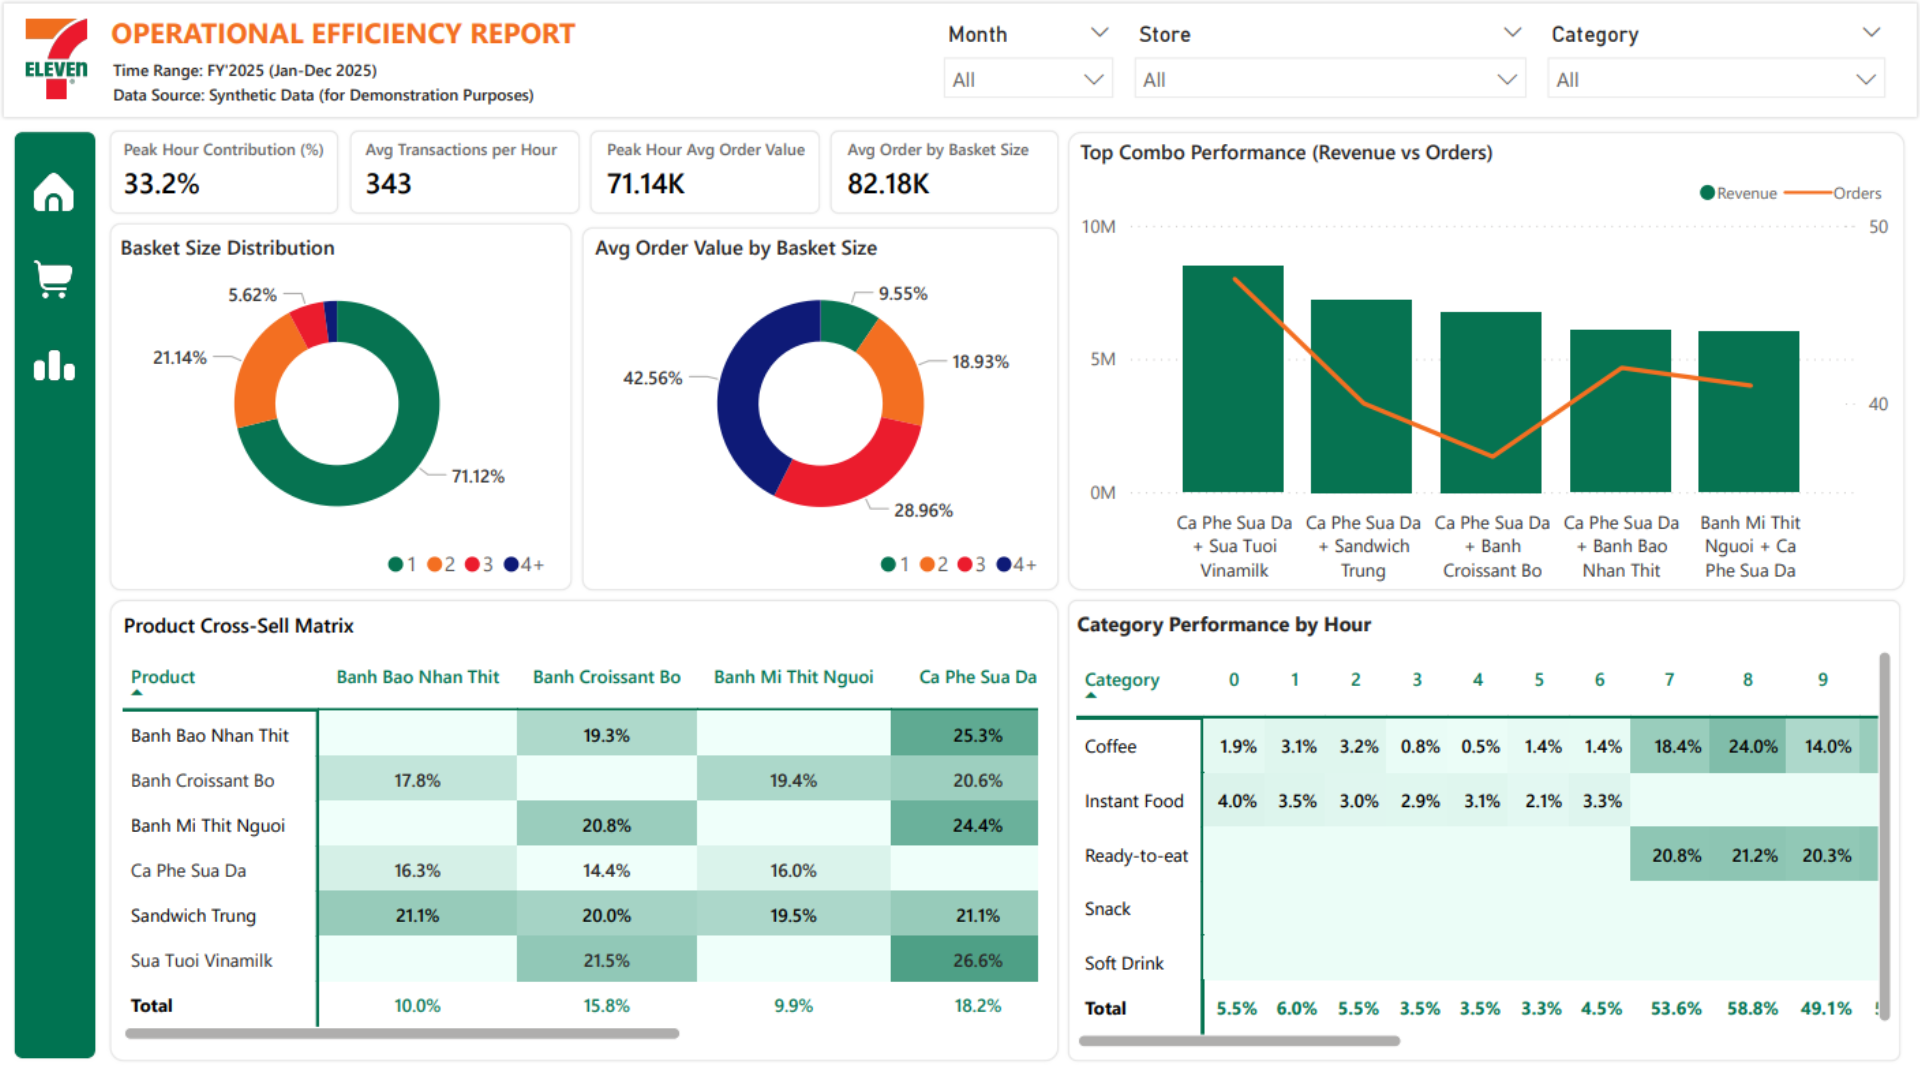

This screenshot's page, from the dashboard's own definition file:
{"tool":"powerbi","page":{"name":"Basket & Operation Deep Dive","canvas":[1280,720],"ordinal":1},"visuals":[{"type":"shape","box":[0,0,1280.4,80.7],"z":0},{"type":"shape","box":[72,148.1,311.3,247.4],"z":1000},{"type":"shape","box":[72,86,156,59.2],"z":2000},{"type":"shape","box":[231.9,86,156,59.2],"z":3000},{"type":"shape","box":[391.8,86,156,59.2],"z":4000},{"type":"shape","box":[72,398.4,635.4,310.1],"z":6000},{"type":"shape","box":[709.7,398.4,558.7,310.1],"z":7000},{"type":"shape","box":[386.8,149.8,320.6,245.1],"z":8000},{"type":"donutChart","title":"Avg Order Value by Basket Size","fields":{"Category":["Order Summary.Basket Group"],"Y":["Order Summary.AOV by Basket Size"]},"box":[397.2,155.6,299.7,239.3],"z":9000},{"type":"shape","box":[709.7,87.1,559.9,307.8],"z":10000},{"type":"pivotTable","title":"Category Performance by Hour","fields":{"Columns":["7_eleven fact_transaction.hour_only"],"Rows":["7_eleven dim_product.category"],"Values":["7_eleven fact_transaction.Normalized % Avg Cate"]},"box":[717.6,407.3,542.4,290.2],"z":11000},{"type":"pivotTable","title":"Product Cross-Sell Matrix","fields":{"Columns":["Affinity.product_B"],"Rows":["Affinity.product_A"],"Values":["Affinity.Affinity %"]},"box":[78.1,408.4,618.4,289.1],"z":12000},{"type":"lineClusteredColumnComboChart","title":"Top Combo Performance (Revenue vs Orders)","fields":{"Category":["7_eleven vw_product_combo.Combo Name"],"Y":["Sum(7_eleven vw_product_combo.revenue)"],"Y2":["Sum(7_eleven vw_product_combo.order_count)"]},"box":[715.5,92.9,547.1,302],"z":13000},{"type":"cardVisual","fields":{"Data":["7_eleven fact_transaction.Peak Hour Sale %"]},"box":[59,76.4,185.4,73.6],"z":14000},{"type":"cardVisual","fields":{"Data":["7_eleven fact_transaction.Transaction Per Hour"]},"box":[220,79.5,185.4,67.5],"z":15000},{"type":"cardVisual","fields":{"Data":["7_eleven fact_transaction.Peak Hour AOV"]},"box":[381,78.5,184.4,69.5],"z":16000},{"type":"shape","box":[551.7,86,155.6,59.2],"z":17000},{"type":"donutChart","title":"Basket Size Distribution","fields":{"Category":["Order Summary.Basket Group"],"Y":["Order Summary.Basket %"]},"box":[81.3,155.6,288.1,239.3],"z":18000},{"type":"cardVisual","fields":{"Data":["Order Summary.AOV by Basket Size"]},"box":[541,75.4,180.4,75.6],"z":19000},{"type":"slicer","fields":{"Values":["7_eleven fact_transaction.MonthShort"]},"box":[623.9,16,122.7,53.4],"z":20000},{"type":"slicer","fields":{"Values":["7_eleven dim_store.store_name"]},"box":[751.1,16,270.5,53.4],"z":21000},{"type":"slicer","fields":{"Values":["7_eleven dim_product.category"]},"box":[1026.1,16,235.2,53.4],"z":22000},{"type":"image","box":[11.1,14.1,53.5,51.5],"z":23000},{"type":"textbox","box":[74.7,10.1,353.5,31.3],"z":24000},{"type":"shape","box":[8.1,85.6,58.9,622.2],"z":24001},{"type":"image","box":[17.6,116.2,37.4,25.3],"z":24002},{"type":"image","box":[17.8,173.7,37,25.3],"z":24003},{"type":"image","box":[17.6,231.3,37.4,25.3],"z":24004},{"type":"textbox","box":[71,32,300,60],"z":24005}]}

Visuals, with their boxes on the page's 1280x720 design canvas (x1, y1, x2, y2). These are canvas units, not pixel positions in the 1920x1080 screenshot, which may show the page scaled, cropped or inside an application window:
shape: <box>0,0,1280,81</box>
shape: <box>72,148,383,396</box>
shape: <box>72,86,228,145</box>
shape: <box>232,86,388,145</box>
shape: <box>392,86,548,145</box>
shape: <box>72,398,707,708</box>
shape: <box>710,398,1268,708</box>
shape: <box>387,150,707,395</box>
"Avg Order Value by Basket Size" donutChart: <box>397,156,697,395</box>
shape: <box>710,87,1270,395</box>
"Category Performance by Hour" pivotTable: <box>718,407,1260,698</box>
"Product Cross-Sell Matrix" pivotTable: <box>78,408,696,698</box>
"Top Combo Performance (Revenue vs Orders)" lineClusteredColumnComboChart: <box>716,93,1263,395</box>
cardVisual - 7_eleven fact_transaction.Peak Hour Sale %: <box>59,76,244,150</box>
cardVisual - 7_eleven fact_transaction.Transaction Per Hour: <box>220,80,405,147</box>
cardVisual - 7_eleven fact_transaction.Peak Hour AOV: <box>381,78,565,148</box>
shape: <box>552,86,707,145</box>
"Basket Size Distribution" donutChart: <box>81,156,369,395</box>
cardVisual - Order Summary.AOV by Basket Size: <box>541,75,721,151</box>
slicer - 7_eleven fact_transaction.MonthShort: <box>624,16,747,69</box>
slicer - 7_eleven dim_store.store_name: <box>751,16,1022,69</box>
slicer - 7_eleven dim_product.category: <box>1026,16,1261,69</box>
image: <box>11,14,65,66</box>
textbox: <box>75,10,428,41</box>
shape: <box>8,86,67,708</box>
image: <box>18,116,55,142</box>
image: <box>18,174,55,199</box>
image: <box>18,231,55,257</box>
textbox: <box>71,32,371,92</box>
